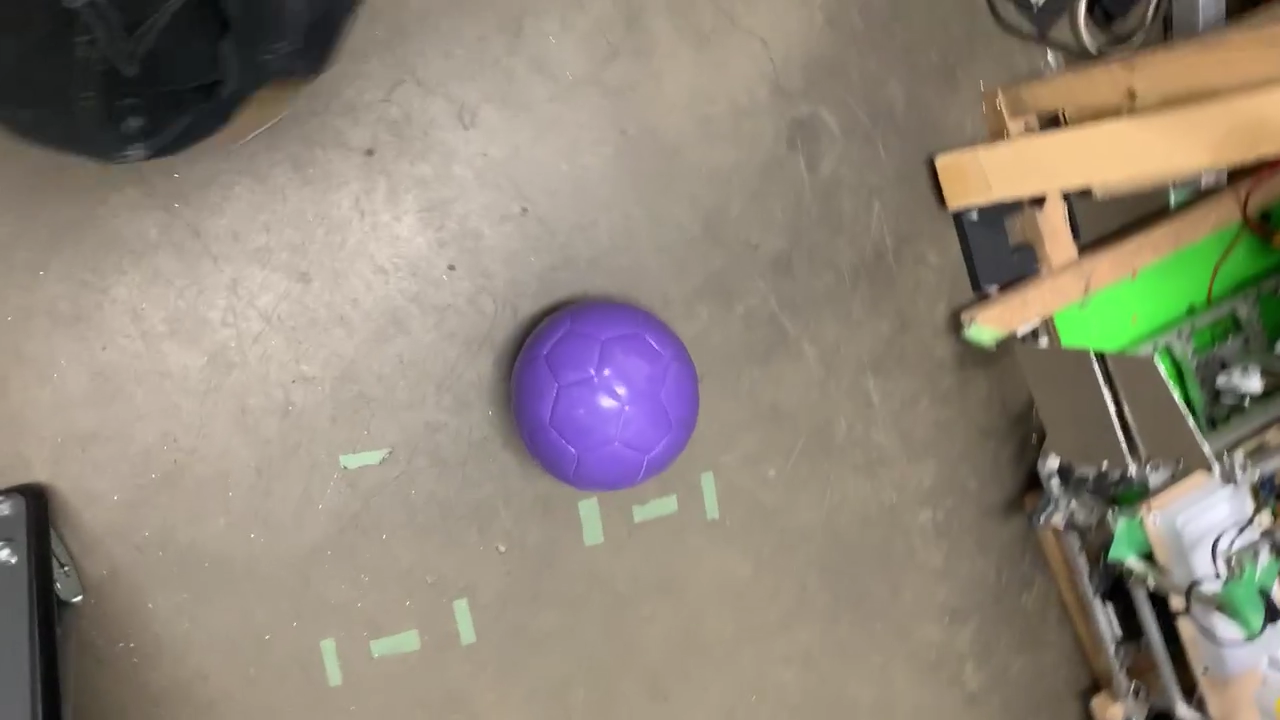purple: (510, 301, 699, 491)
